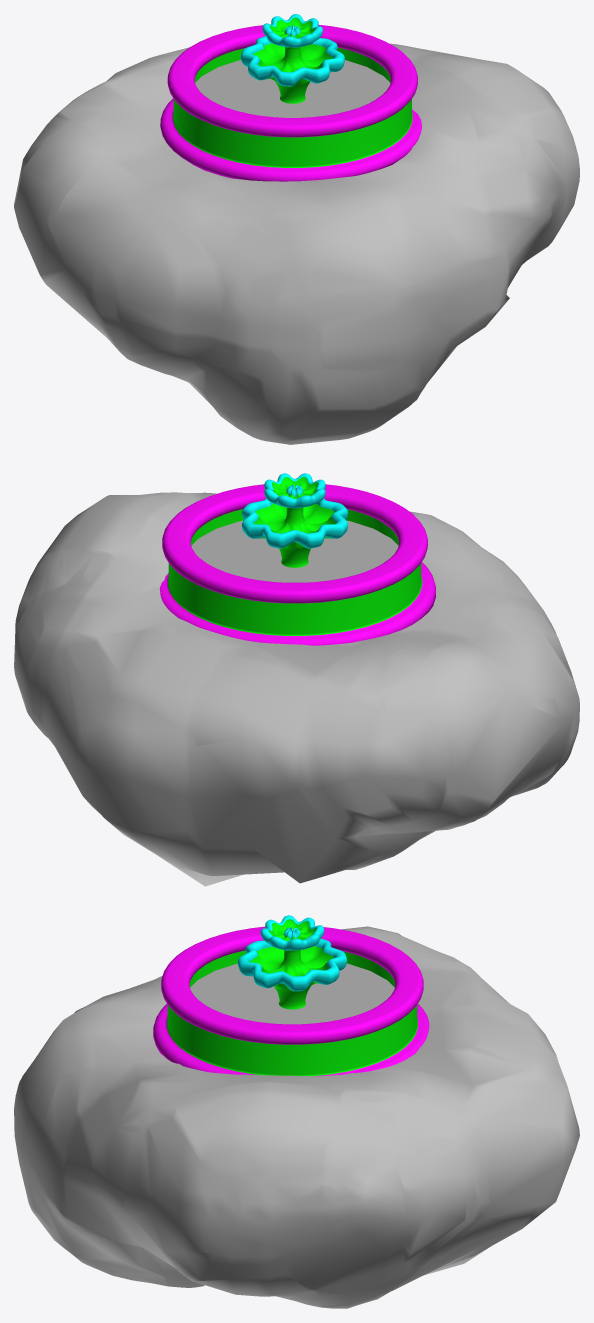
File: pool-group.fbx
The picture shows the model from 3 angles, top to bottom: view 1: azimuth 30°, elevation 25°; view 2: azimuth 150°, elevation 25°; view 3: azimuth 270°, elevation 25°; orthographic projection. The views are drawn at different scales.
Visible parts, largest first — view 1: pool_cloud, pool, pool_water; view 2: pool_cloud, pool, pool_water; view 3: pool_cloud, pool, pool_water.
Part boxes in pixels (bbox=[...]): pool_cloud: bbox=[14, 43, 579, 444]; pool: bbox=[160, 14, 421, 181]; pool_water: bbox=[195, 60, 390, 117]; pool_cloud: bbox=[14, 492, 579, 886]; pool: bbox=[159, 473, 435, 645]; pool_water: bbox=[191, 520, 398, 582]; pool_cloud: bbox=[14, 926, 579, 1308]; pool: bbox=[153, 915, 429, 1076]; pool_water: bbox=[190, 963, 394, 1024].
Size of the model in its own units: 747 by 507 by 719.
